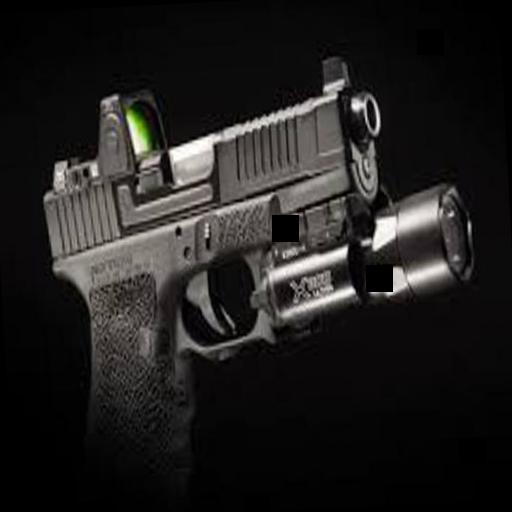Handgun: (34, 41, 487, 512)
